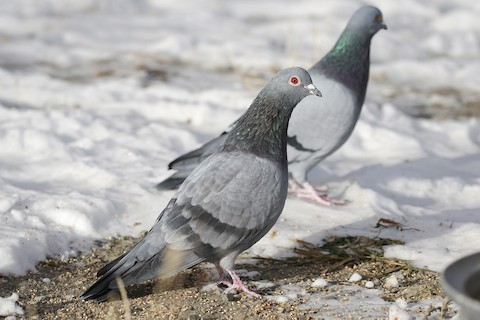pigeon: (76, 66, 323, 309), (151, 4, 390, 207)
